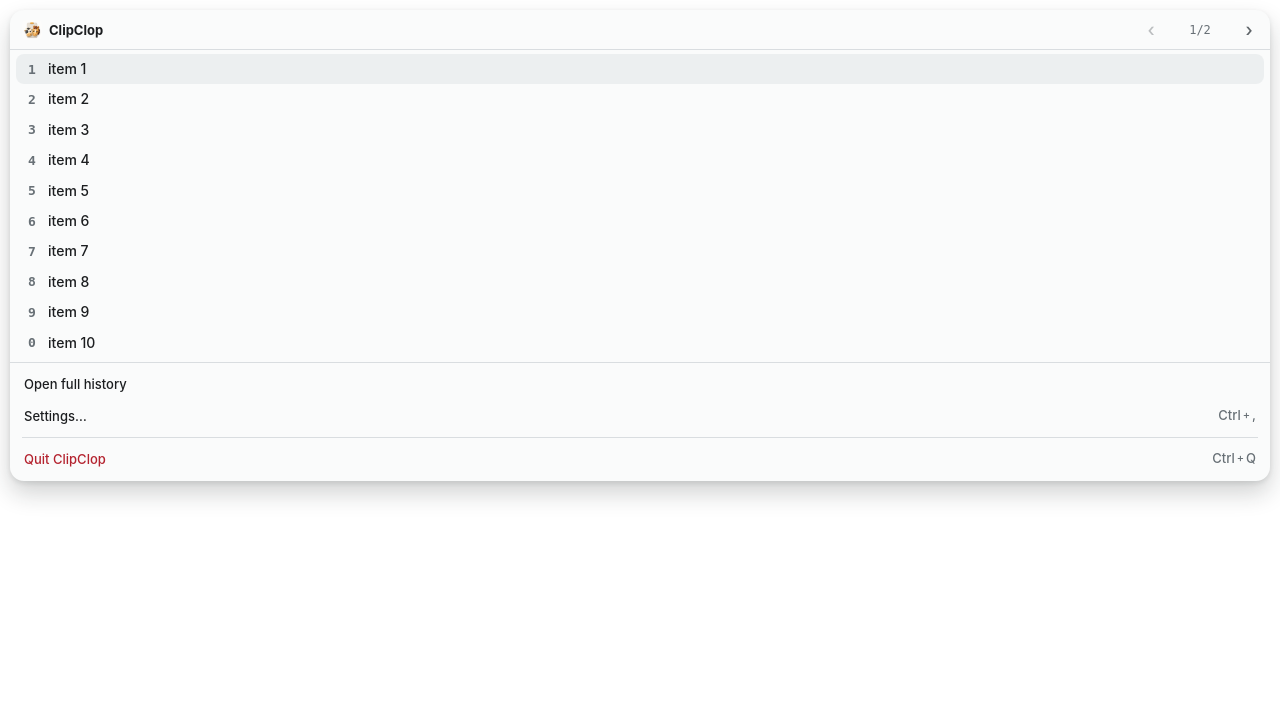
QuickPanel pagination › keeps the committed page when the next page fails
Expected: the text "item 1" is shown, [48,58,86,80]
Click the button named "Next page": [1249, 30] box [1236,16,1262,42]
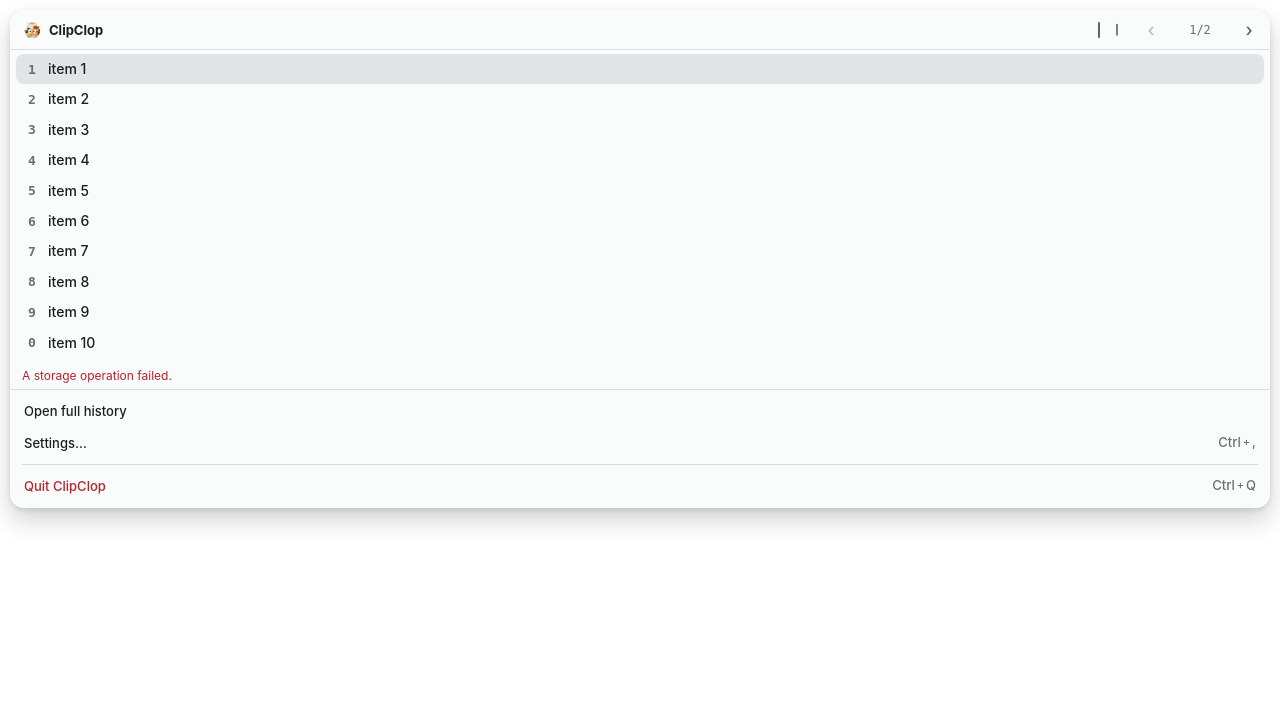
Expected: the text "item 1" is shown, [48,58,86,80]
Now the message "A storage operation failed." is shown, box [22,368,172,383]
